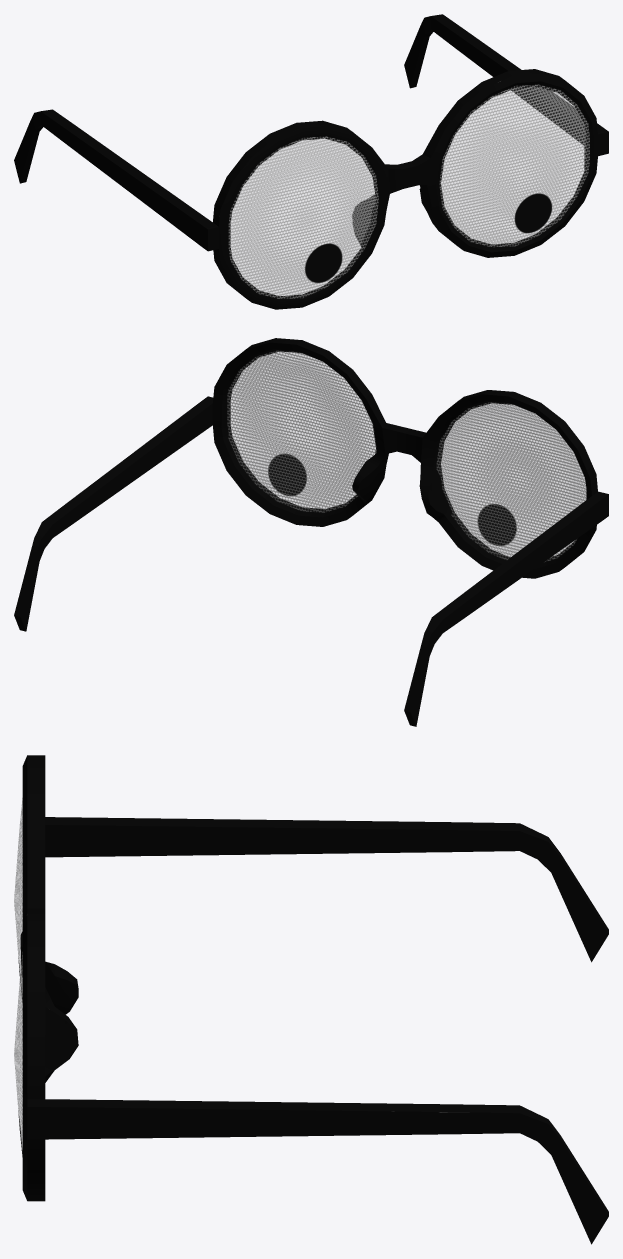
File: Googly_B.glb
3 renders of one model, top to bottom at view 1: azimuth 30°, elevation 25°; view 2: azimuth 150°, elevation 25°; view 3: azimuth 270°, elevation 25°, orthographic. The views are drawn at different scales.
Visible parts, largest first — view 1: Googly B; view 2: Googly B; view 3: Googly B.
Boxes of the visible parts, <box> form: Googly B: <box>14,14,608,309</box>; Googly B: <box>14,338,608,726</box>; Googly B: <box>14,755,608,1244</box>.
Size of the model in its own units: 0.8323 by 0.3576 by 0.7215.
Materials: 2 (2 with a texture image).
